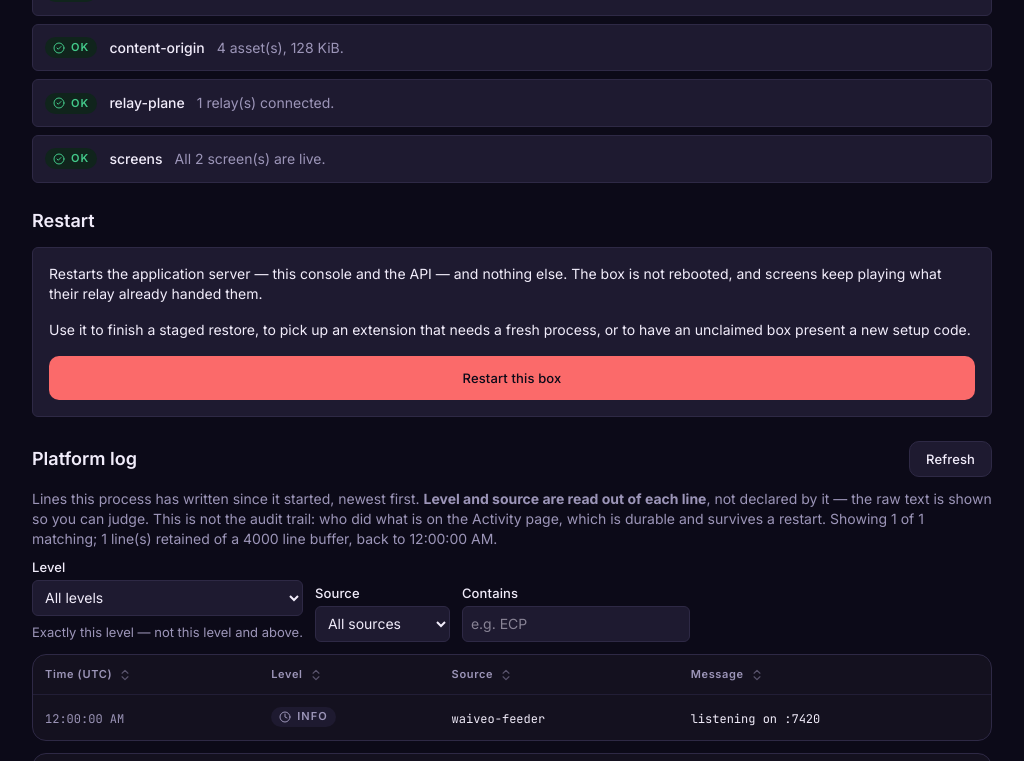
SystemRoute — the restart panel is a ui-schema/1 document › renders the refusal's trace id, so a support conversation has the one identifier that matters
(page scrolled)
Click the button "Restart this box". click: [512, 378]
box: [49, 356, 975, 400]
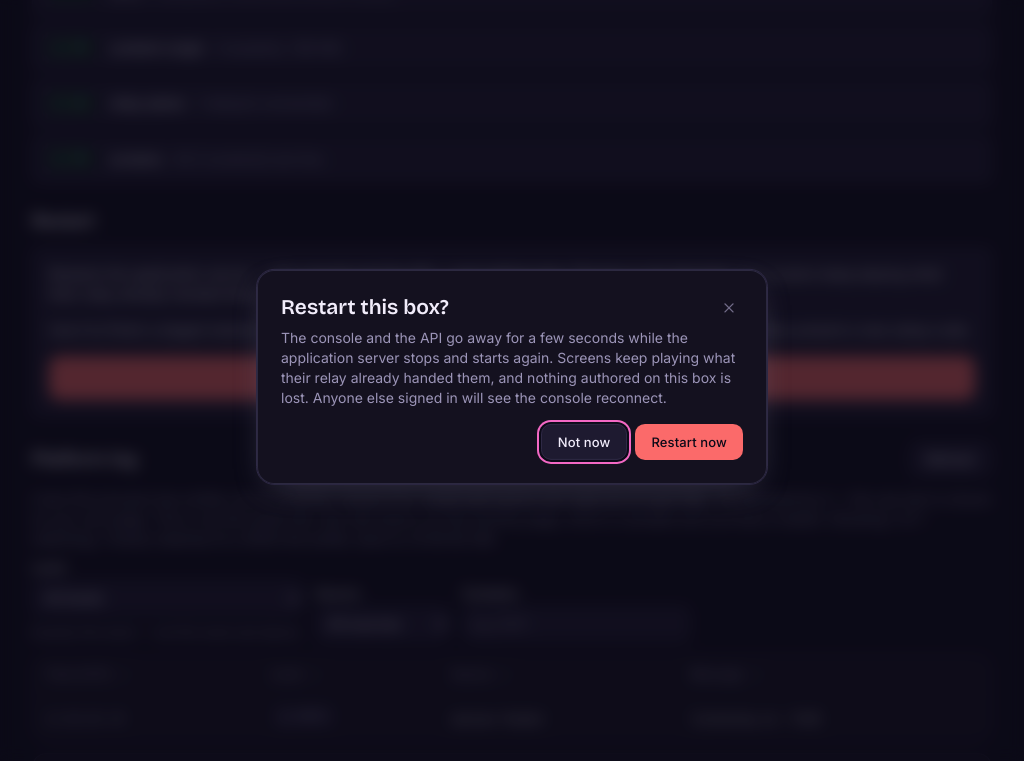
Click the button "Restart now". click: [689, 442]
box: [635, 424, 743, 460]
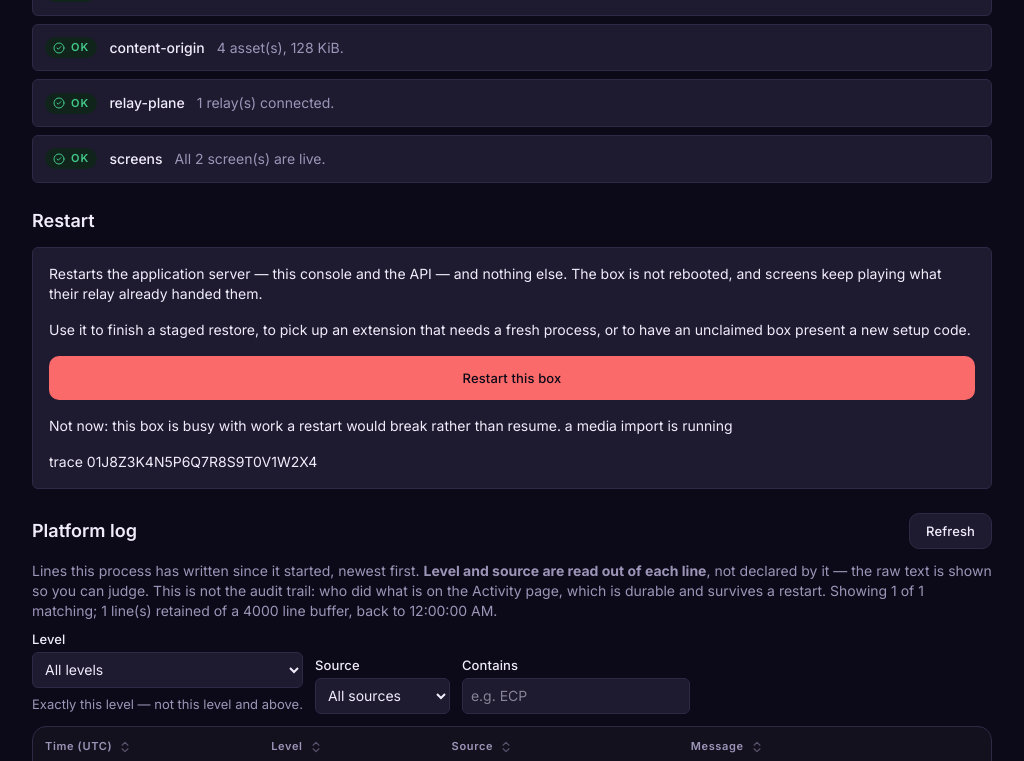
Expected: the message shows "a media import is running", [49, 417, 732, 434]
